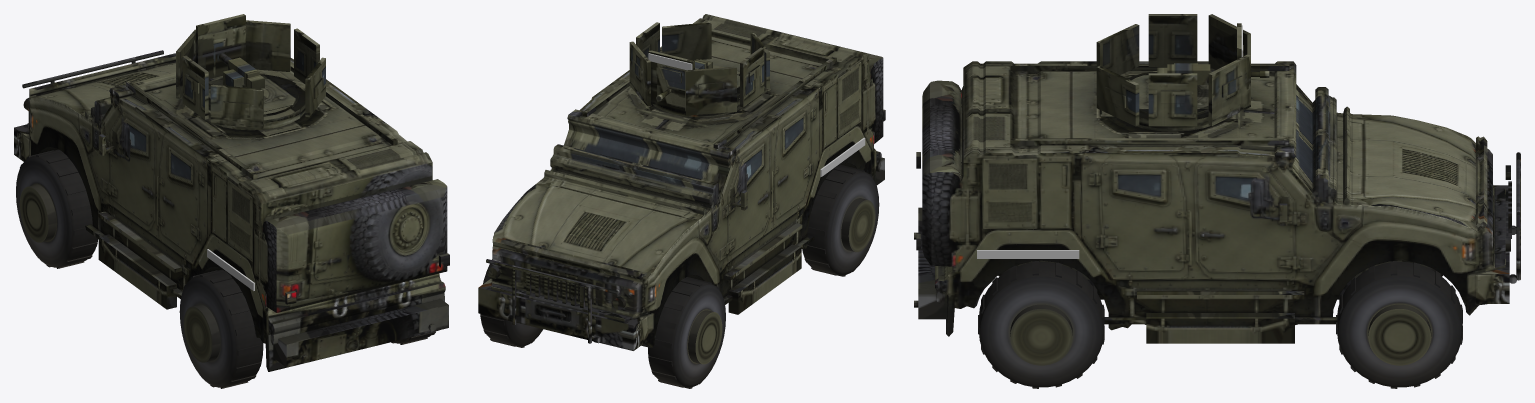
Rendered from mrap.glb.
3 renders of one model, left to right at view 1: azimuth 30°, elevation 25°; view 2: azimuth 150°, elevation 25°; view 3: azimuth 270°, elevation 25°, orthographic. The views are drawn at different scales.
Visible parts, largest first — view 1: Hull, Turret, WheelRL, WheelFL, Gun; view 2: Hull, Turret, WheelFL, WheelRL, WheelFR; view 3: Hull, Turret, WheelRR, WheelFR, Gun.
Part boxes in pixels (x1,y1,x2,y2): Hull: (14, 50, 449, 371); Turret: (176, 14, 325, 130); WheelRL: (179, 269, 263, 388); WheelFL: (16, 149, 98, 268); Gun: (219, 53, 264, 88); Hull: (478, 14, 885, 350); Turret: (629, 22, 769, 117); WheelFL: (648, 277, 725, 388); WheelRL: (802, 165, 879, 276); WheelFR: (480, 259, 543, 347); Hull: (914, 61, 1520, 343); Turret: (1096, 14, 1250, 131); WheelRR: (978, 261, 1104, 388); WheelFR: (1336, 261, 1462, 388); Gun: (1157, 63, 1269, 84).
Size of the model in its own units: 3.08 by 3.54 by 6.53.
Materials: 2 (1 with a texture image).
